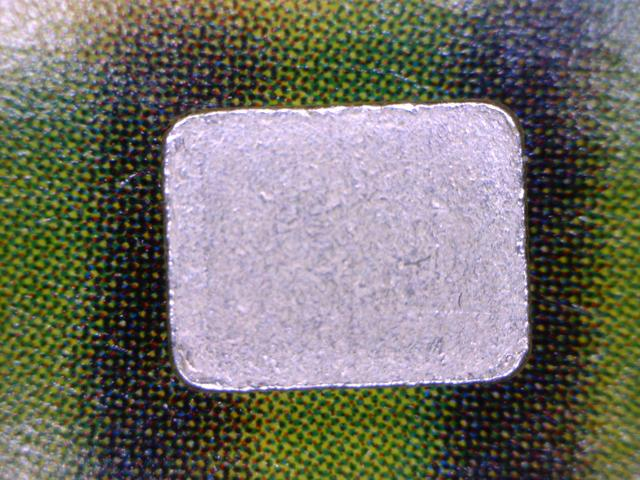ok: (153, 98, 535, 394)
